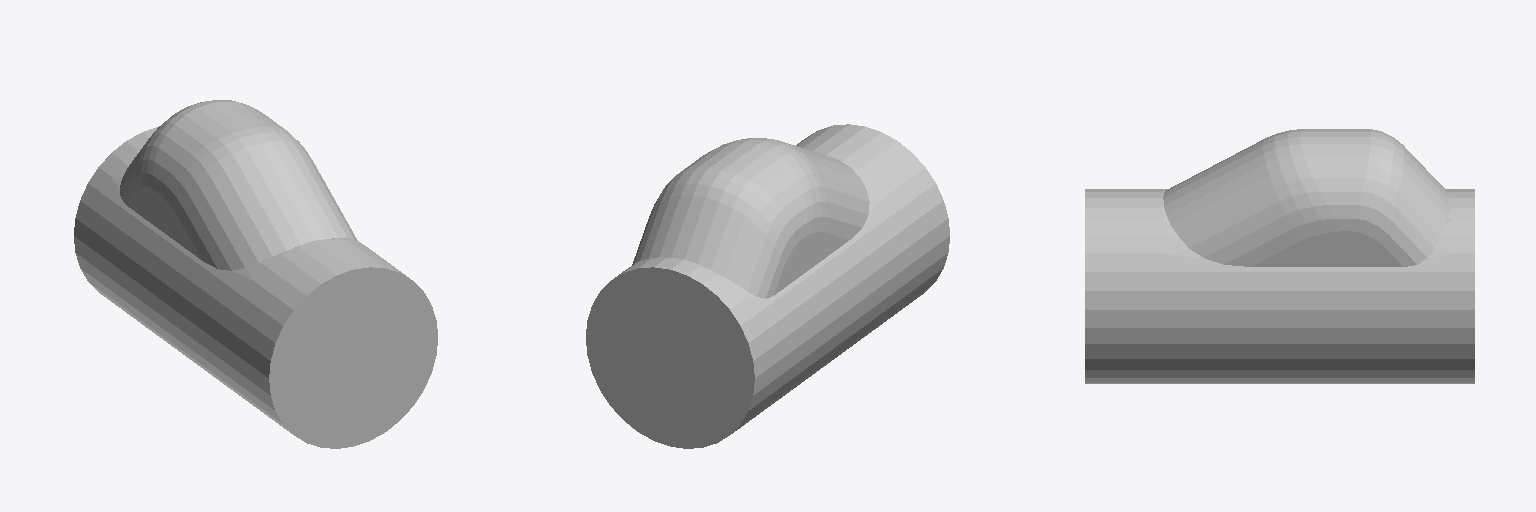
The model's file is cockpit2.obj.
The picture shows the model from 3 angles: view 1: azimuth 30°, elevation 25°; view 2: azimuth 150°, elevation 25°; view 3: azimuth 270°, elevation 25°; orthographic projection.
Visible parts, largest first — view 1: Cube; view 2: Cube; view 3: Cube.
Boxes of the visible parts, x1=… form: Cube: x1=74, y1=100, x2=437, y2=448; Cube: x1=586, y1=124, x2=949, y2=448; Cube: x1=1085, y1=129, x2=1474, y2=383.
Bounding box in the file's own units: 1 × 1.35 × 2.